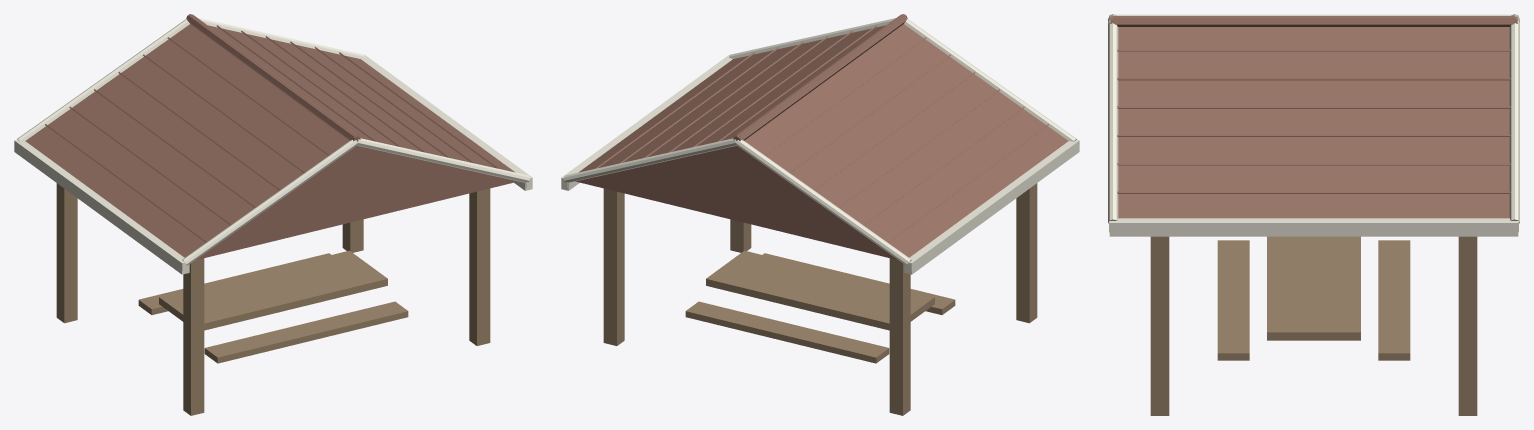
3 renders of one model, left to right at view 1: azimuth 30°, elevation 25°; view 2: azimuth 150°, elevation 25°; view 3: azimuth 270°, elevation 25°, orthographic. The views are drawn at different scales.
Bounding box in the file's own units: 7.36 × 5.11 × 6.15.
